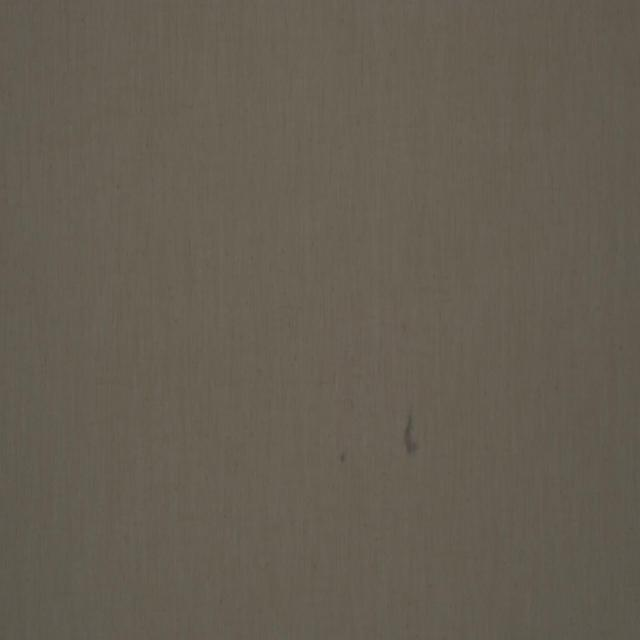dirty: (404, 410, 421, 459)
